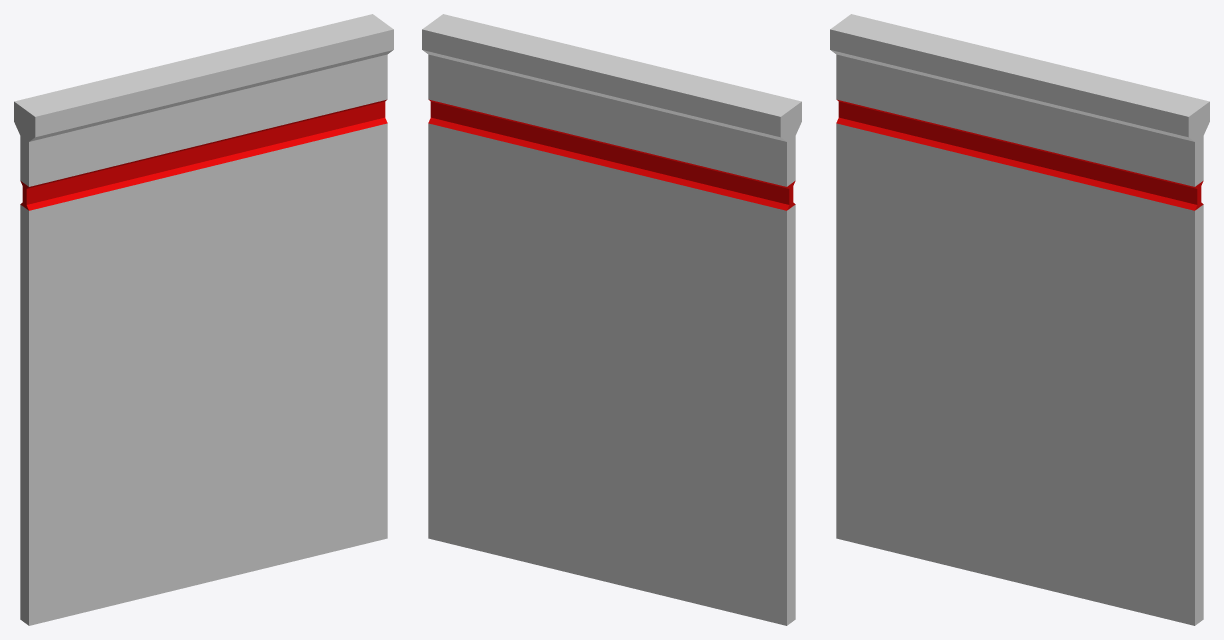
File: wall_color.fbx
3 views of the same model, side by side, from view 1: azimuth 30°, elevation 25°; view 2: azimuth 150°, elevation 25°; view 3: azimuth 330°, elevation 25° (orthographic).
Parts seen in each view (by area): view 1: wall; view 2: wall; view 3: wall.
Part boxes in pixels (left/top/right/bottom): wall: left=14, top=14, right=393, bottom=625; wall: left=422, top=14, right=801, bottom=625; wall: left=830, top=14, right=1209, bottom=625.
Bounding box in the file's own units: 27.13 × 37.12 × 2.76.
